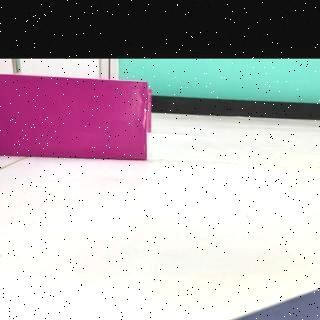xparking: (2, 85, 148, 164)
